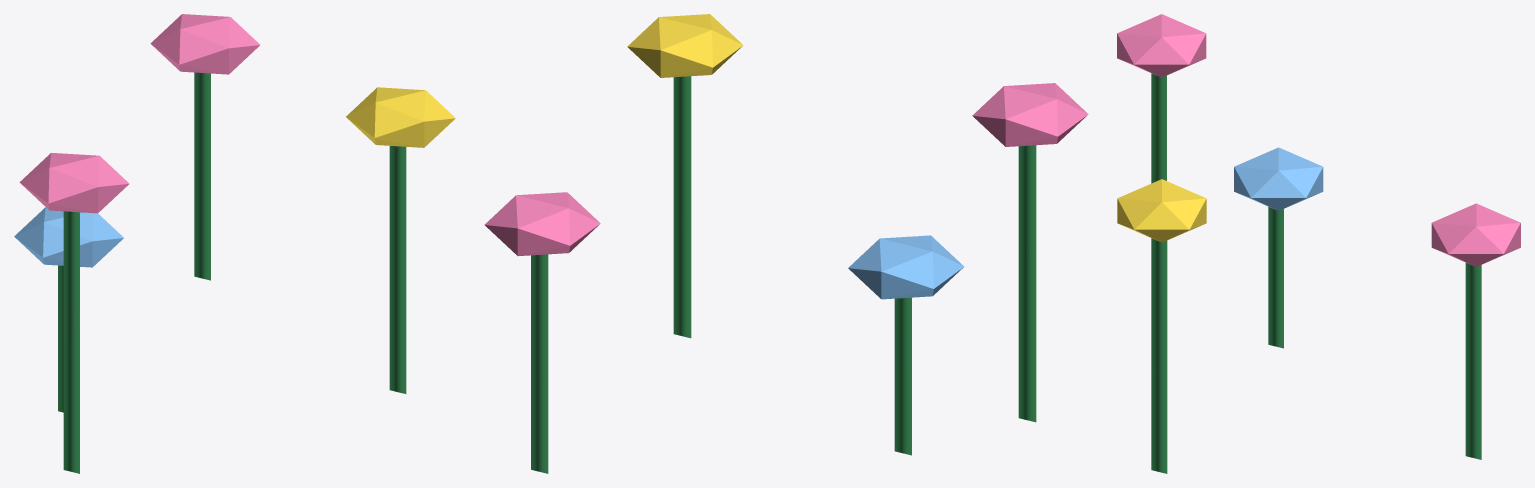
File: stage1_deco_flowers.glb
The picture shows the model from 3 angles, left to right: view 1: azimuth 30°, elevation 25°; view 2: azimuth 150°, elevation 25°; view 3: azimuth 270°, elevation 25°; orthographic projection. The views are drawn at different scales.
Parts seen in each view (by area): view 1: stage1_deco_flowers_leaf2, stage1_deco_flowers_petal0, stage1_deco_flowers_petal1, stage1_deco_flowers_petal2; view 2: stage1_deco_flowers_leaf2, stage1_deco_flowers_petal0, stage1_deco_flowers_petal2, stage1_deco_flowers_petal1; view 3: stage1_deco_flowers_leaf2, stage1_deco_flowers_petal0, stage1_deco_flowers_petal1, stage1_deco_flowers_petal2.
Boxes of the visible parts, box(x1,y1,x2,y2) form: stage1_deco_flowers_leaf2: box(58, 72, 406, 473); stage1_deco_flowers_petal0: box(19, 14, 259, 213); stage1_deco_flowers_petal1: box(346, 87, 455, 147); stage1_deco_flowers_petal2: box(14, 207, 123, 267); stage1_deco_flowers_leaf2: box(531, 76, 1036, 473); stage1_deco_flowers_petal0: box(484, 83, 1088, 256); stage1_deco_flowers_petal2: box(848, 235, 964, 299); stage1_deco_flowers_petal1: box(627, 14, 743, 77); stage1_deco_flowers_leaf2: box(1151, 73, 1481, 473); stage1_deco_flowers_petal0: box(1117, 14, 1520, 266); stage1_deco_flowers_petal1: box(1117, 179, 1206, 242); stage1_deco_flowers_petal2: box(1234, 147, 1323, 210).
Bounding box in the file's own units: 0.256 × 0.1849 × 0.2309.
